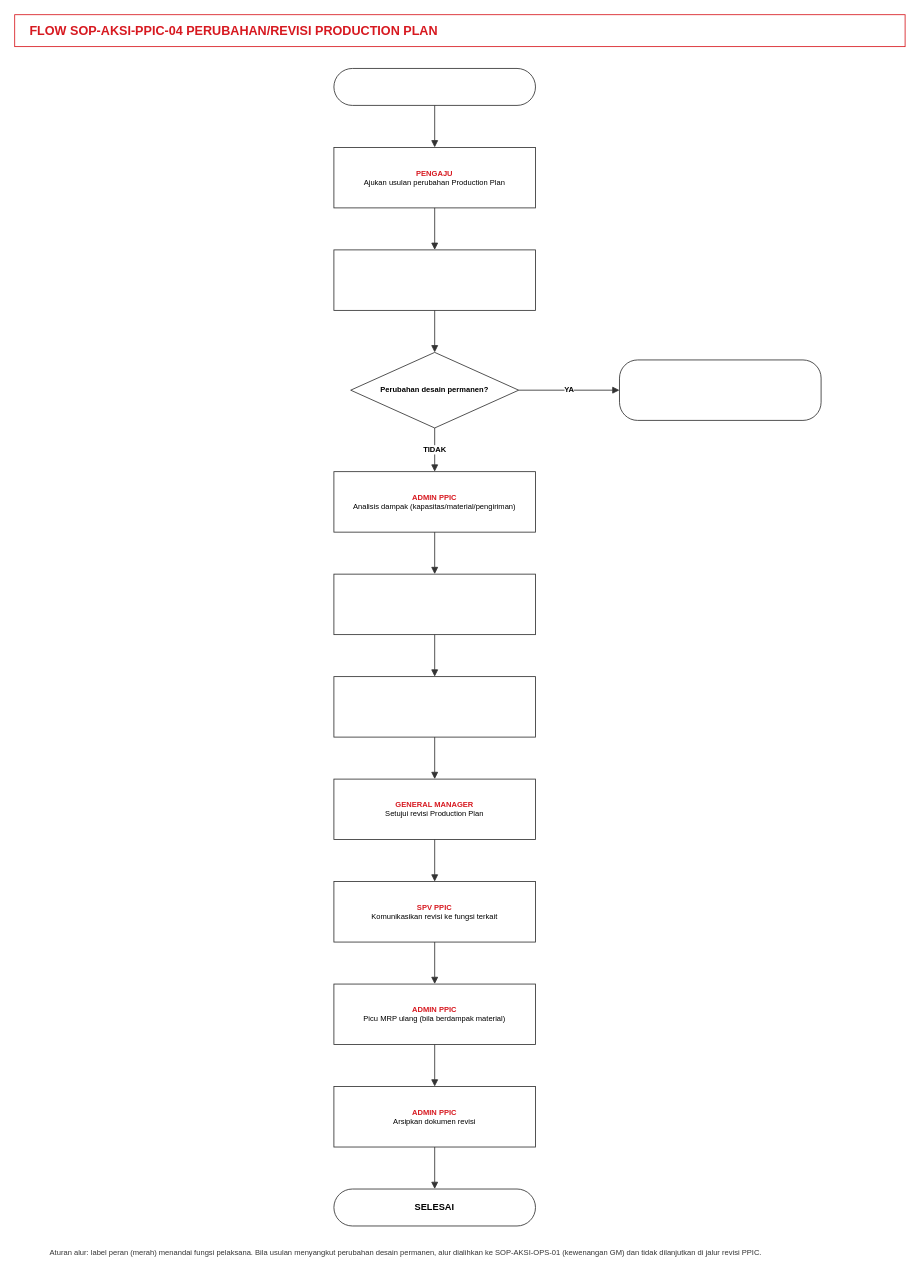
The diagram is 920 pixels wide and 1286 high, and some of its shapes have lost their labels. The centre of each missing label's shape, as x and y in pixels:
"GENERAL MANAGER Dialihkan ke SOP-AKSI-OPS-01" goes at (720,389).
"MULAI" goes at (434,86).
"PRODUCTION HEAD Review & rekomendasi persetujuan" goes at (434,706).
"SPV PPIC Catat & periksa kelengkapan usulan" goes at (434,279).
"SPV PPIC Susun draft revisi Production Plan" goes at (434,604).
